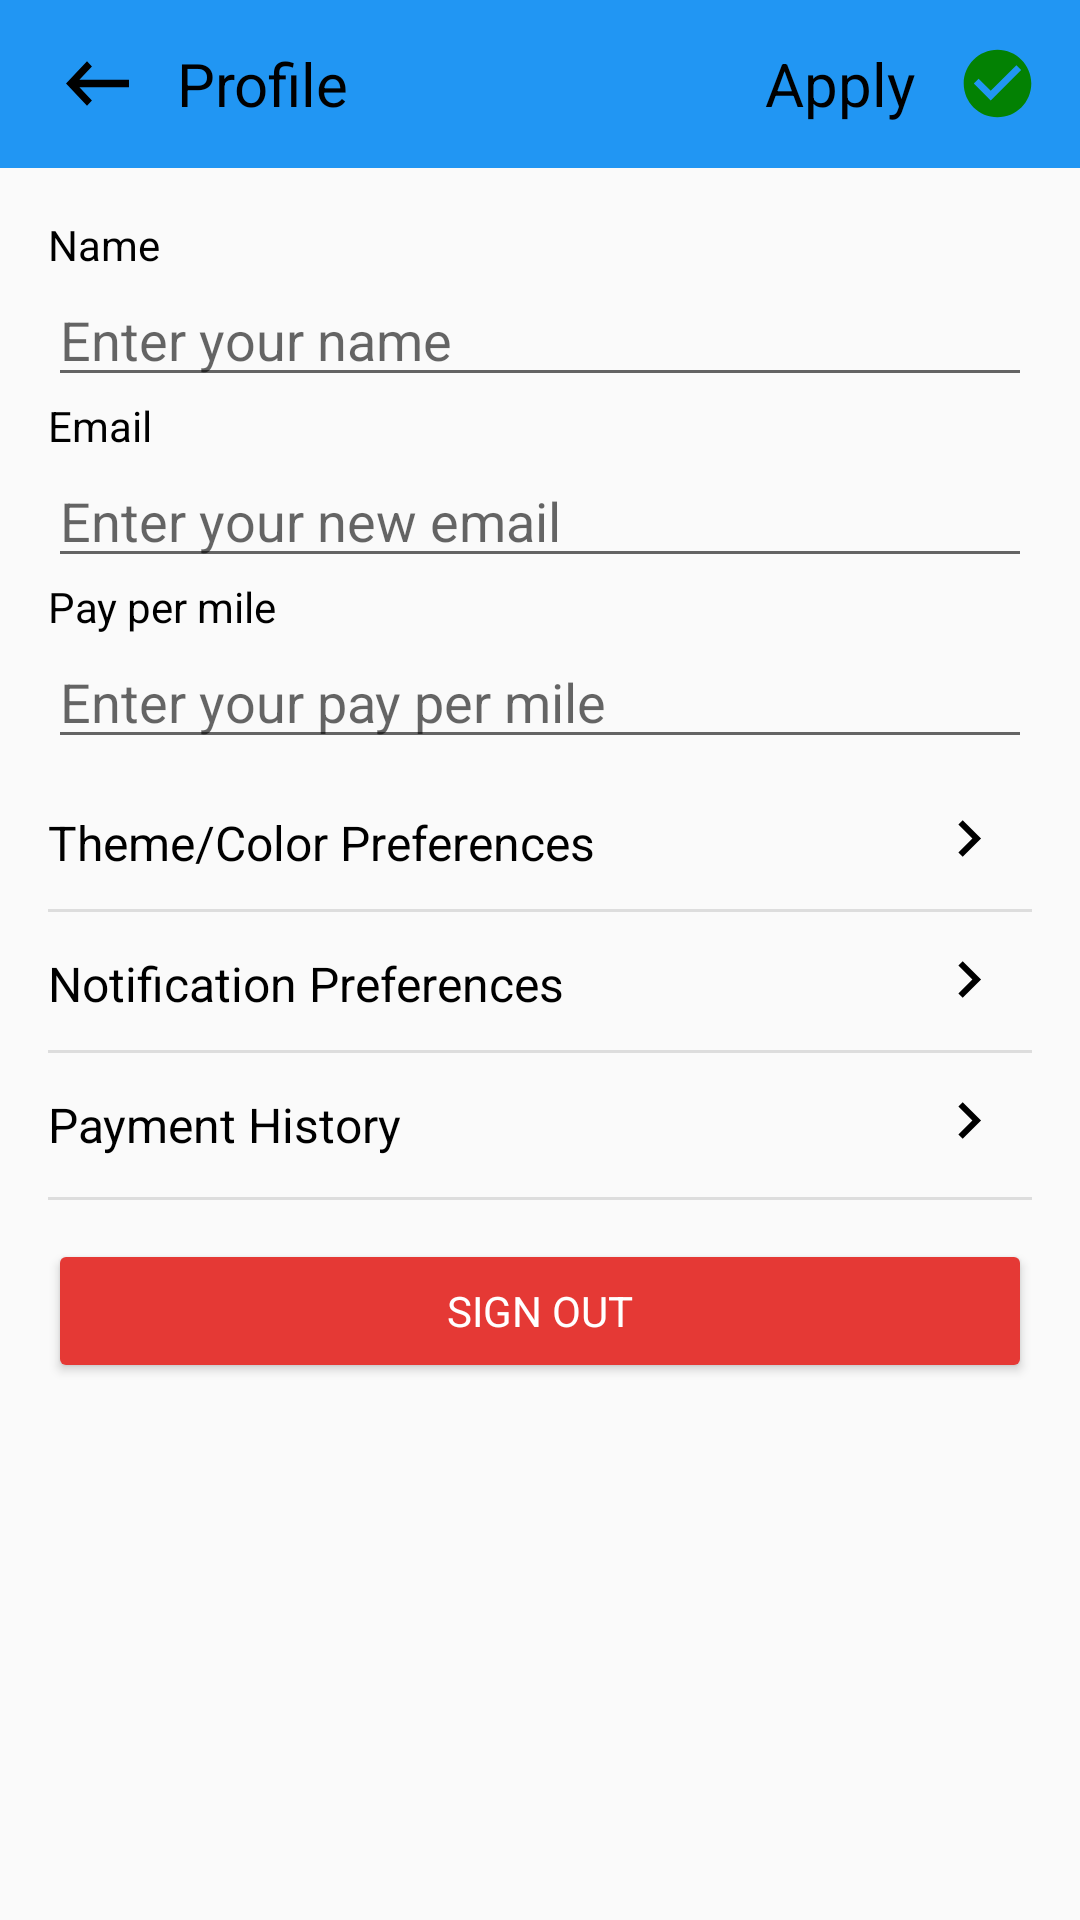

Locate icon controls on the screen. Image size 1080 x 1920, boxes as [x1, y1, x2, y2].
arrow forward: [958, 820, 981, 857], [958, 961, 981, 998], [958, 1102, 981, 1139]
back: [66, 61, 129, 106]
check: [963, 49, 1032, 118]
